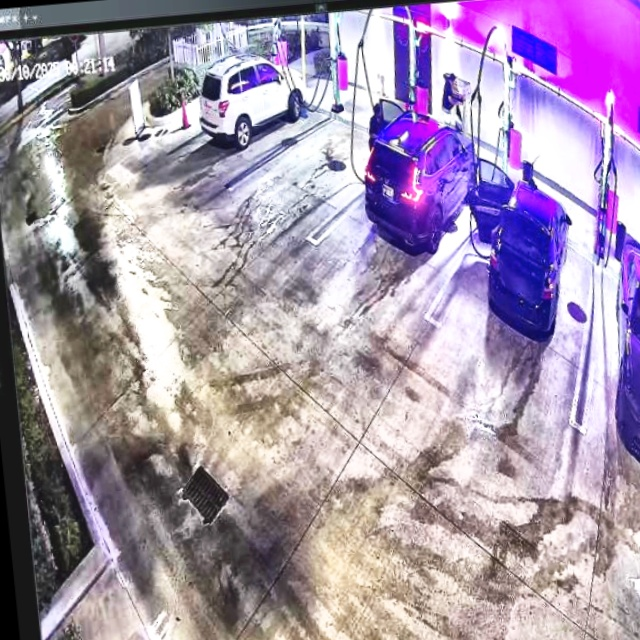Car: (356, 89, 485, 254), (471, 149, 580, 344)
